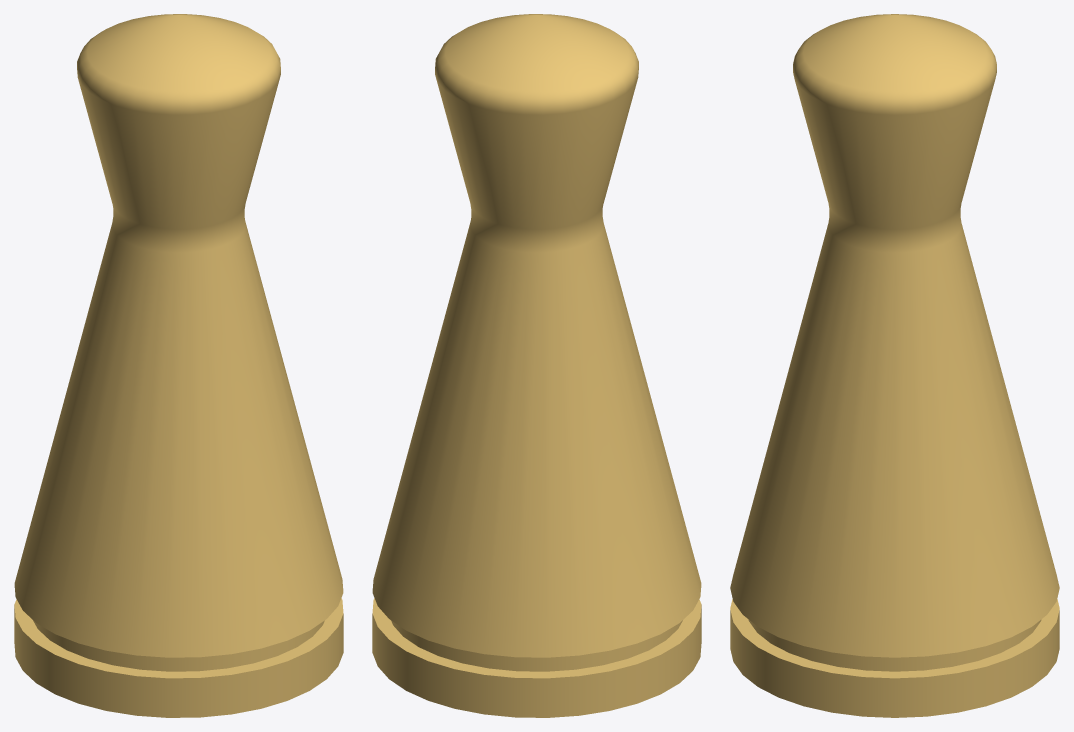
File: Queen_W.fbx
The picture shows the model from 3 angles, left to right: view 1: azimuth 30°, elevation 25°; view 2: azimuth 150°, elevation 25°; view 3: azimuth 270°, elevation 25°; orthographic projection.
Parts seen in each view (by area): view 1: Queen_W; view 2: Queen_W; view 3: Queen_W.
Part boxes in pixels (x1,y1,x2,y2): Queen_W: (14,14,343,717); Queen_W: (372,14,701,717); Queen_W: (730,14,1059,717).
Size of the model in its own units: 150 by 318 by 150.
